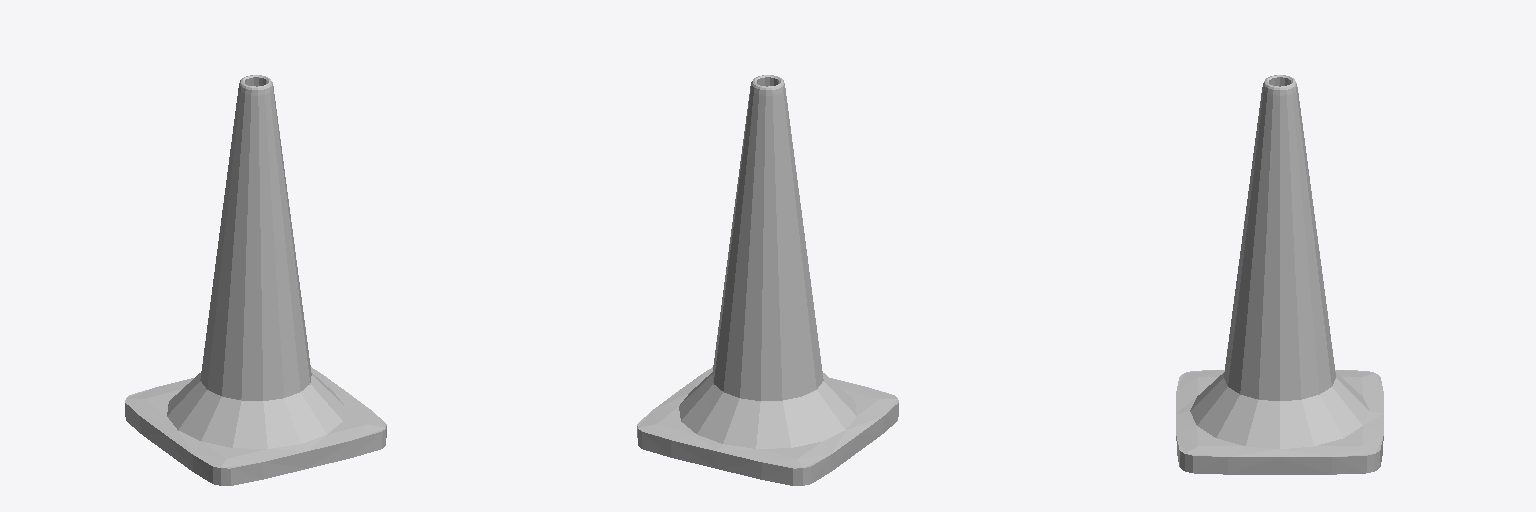
3 renders of one model, left to right at view 1: azimuth 30°, elevation 25°; view 2: azimuth 150°, elevation 25°; view 3: azimuth 270°, elevation 25°, orthographic.
Parts seen in each view (by area): view 1: obstacle_low; view 2: obstacle_low; view 3: obstacle_low.
Part boxes in pixels (x1,y1,x2,y2): obstacle_low: (125,75,386,485); obstacle_low: (637,75,898,485); obstacle_low: (1176,75,1383,474).
Bounding box in the file's own units: 1.1 × 2.04 × 1.1.